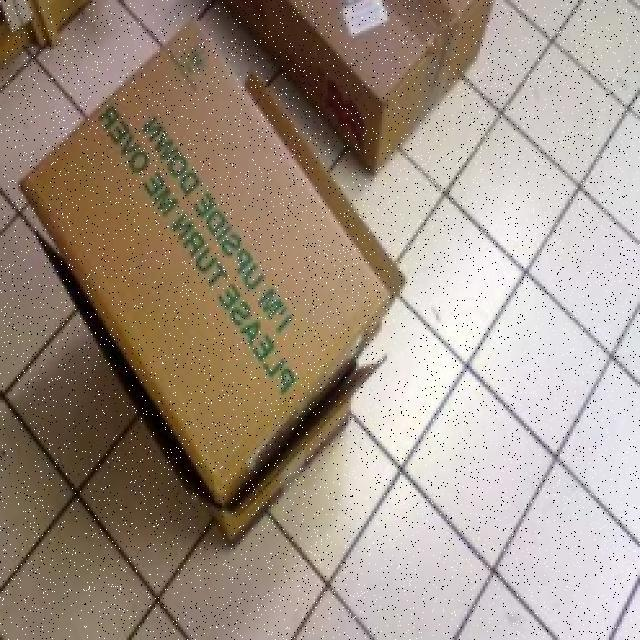box: (12, 62, 410, 537), (212, 0, 496, 137)
